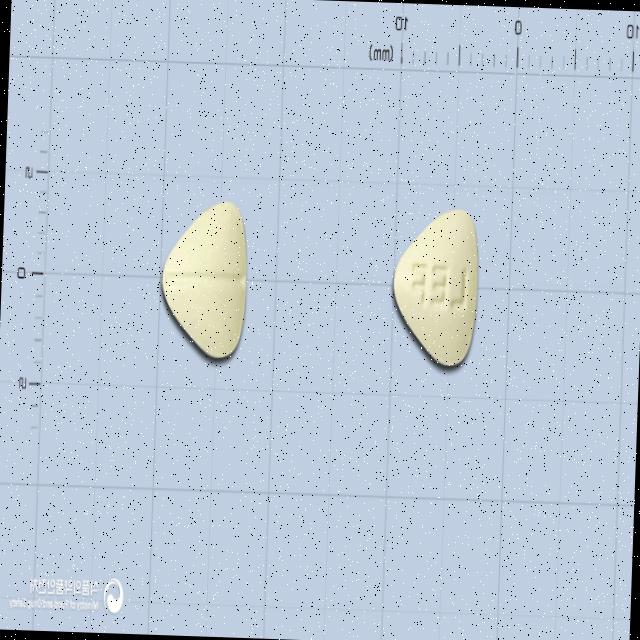Hanlim Leflunomide: (158, 196, 250, 364), (388, 207, 481, 370)
